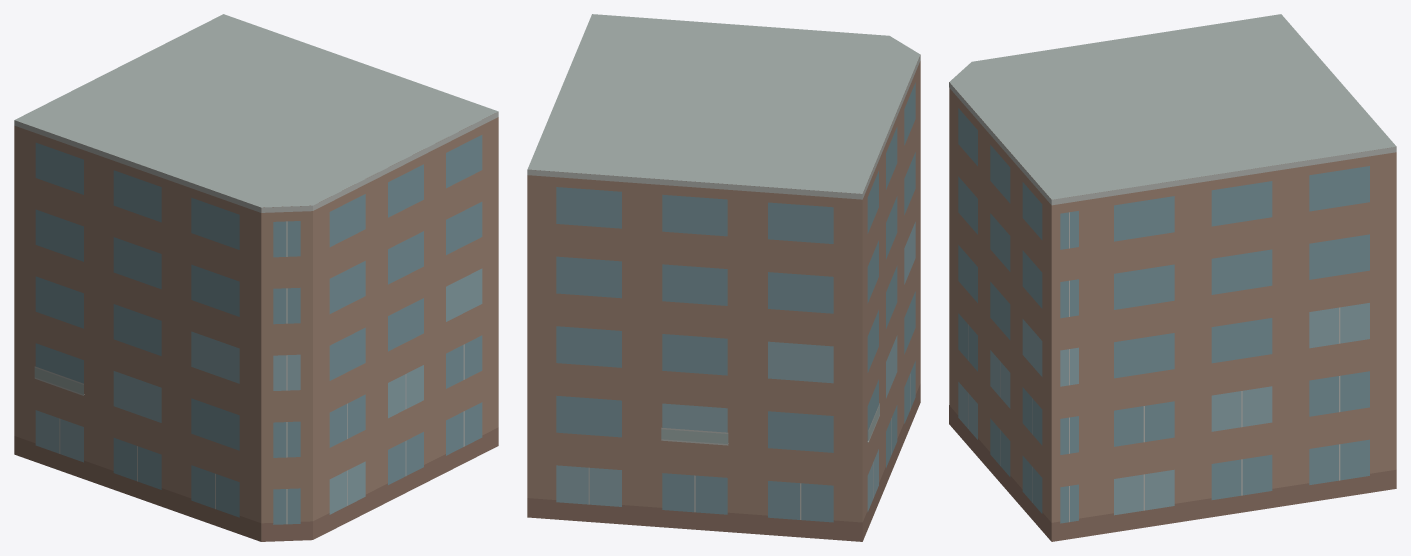
File: survey-upis-32866413.glb
3 renders of one model, left to right at view 1: azimuth 30°, elevation 25°; view 2: azimuth 150°, elevation 25°; view 3: azimuth 270°, elevation 25°, orthographic. The views are drawn at different scales.
Visible parts, largest first — view 1: survey-upis-32866413.tmp; view 2: survey-upis-32866413.tmp; view 3: survey-upis-32866413.tmp.
Boxes of the visible parts, box(x1,y1,x2,y2) form: survey-upis-32866413.tmp: box(14, 14, 498, 541); survey-upis-32866413.tmp: box(527, 14, 920, 541); survey-upis-32866413.tmp: box(949, 14, 1396, 541).
Bounding box in the file's own units: 17.48 × 15 × 17.79.
